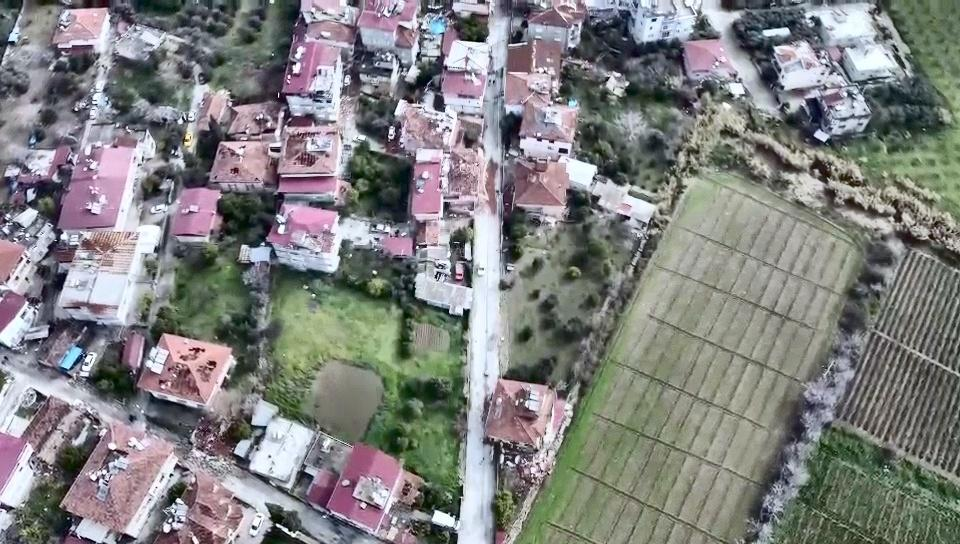kapali: (141, 421, 253, 499), (474, 140, 501, 231)
